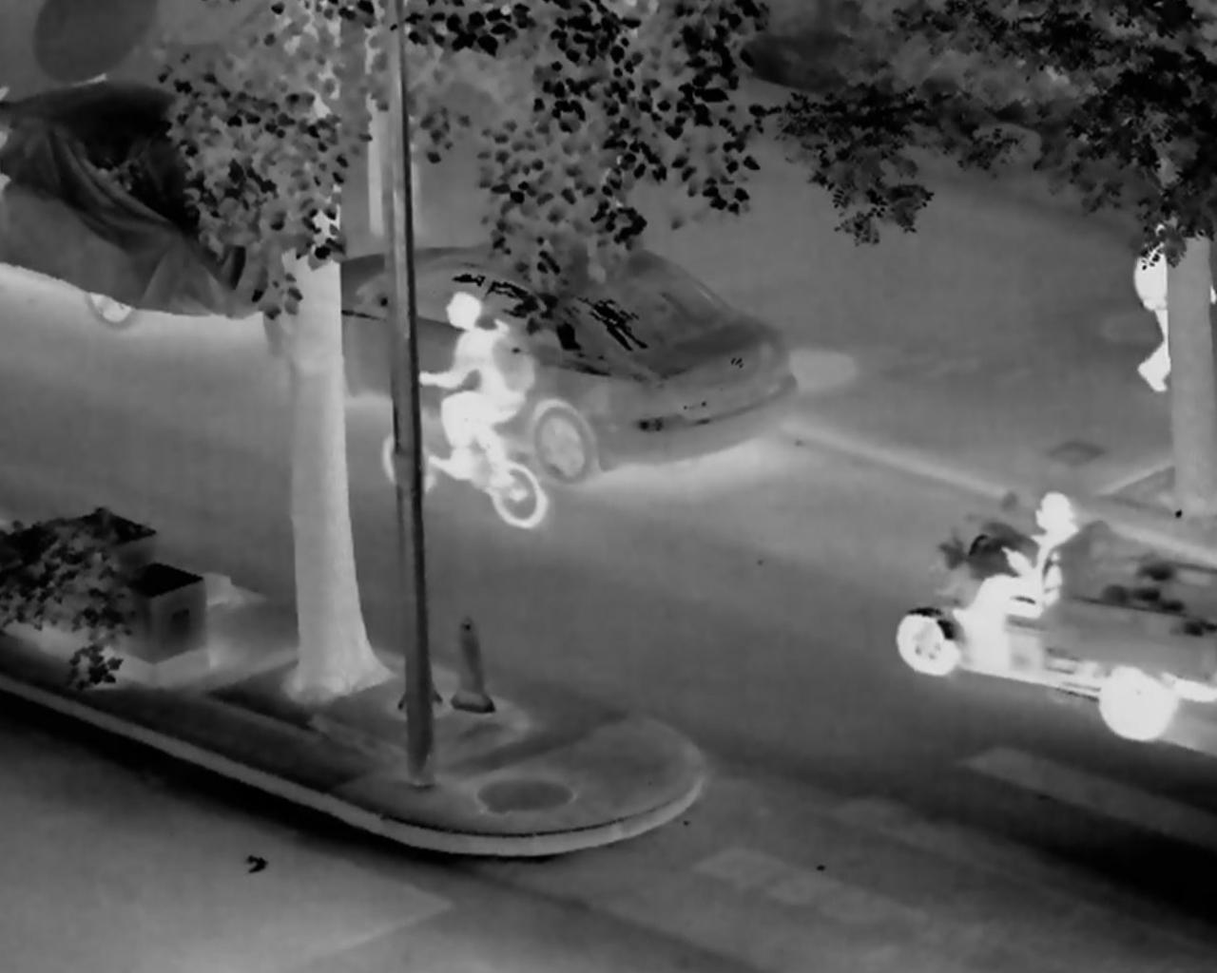person: (409, 295, 531, 479), (956, 491, 1079, 648), (1130, 177, 1215, 395)
